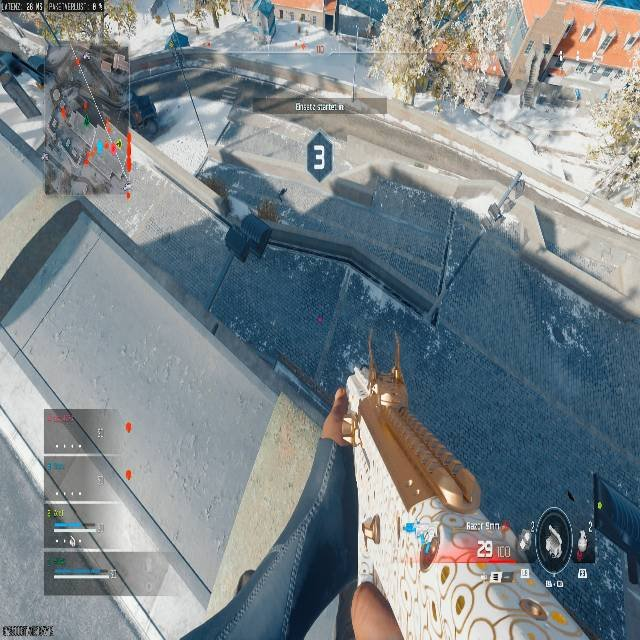player: (249, 0, 282, 44)
